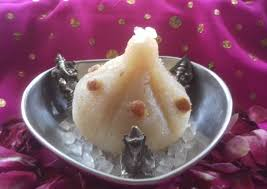modak: (69, 6, 197, 160)
